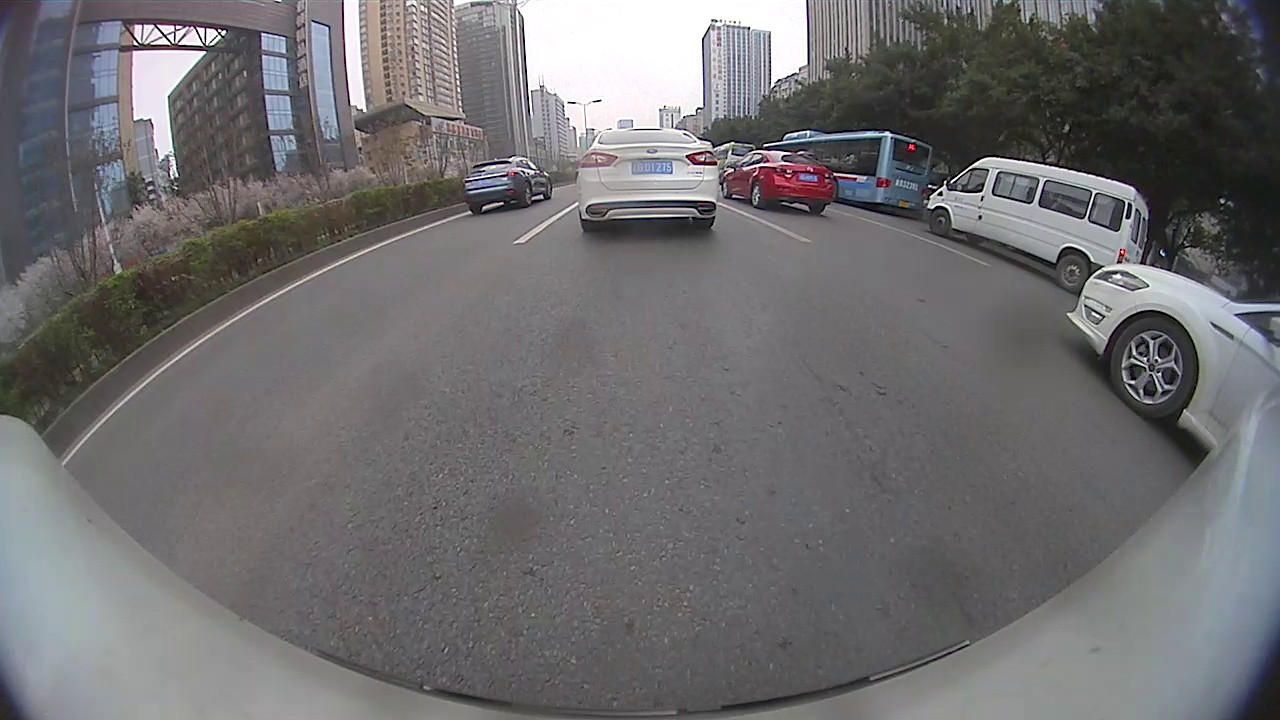bus: (762, 130, 932, 209)
car: (1064, 261, 1279, 446), (929, 157, 1150, 291), (573, 125, 721, 232), (720, 148, 837, 216), (461, 156, 555, 216)
front: (1109, 312, 1200, 420), (930, 206, 953, 238), (540, 178, 554, 201), (718, 177, 730, 202)
rear: (1055, 253, 1090, 292), (518, 181, 534, 209), (749, 181, 764, 210)
